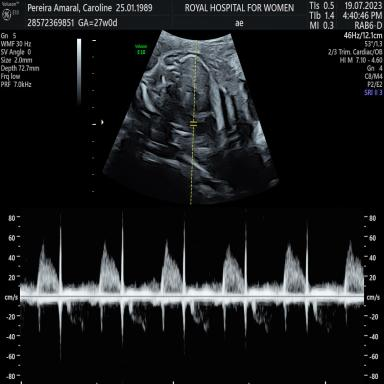Ultrasound-Waves: (26, 210, 362, 384)
